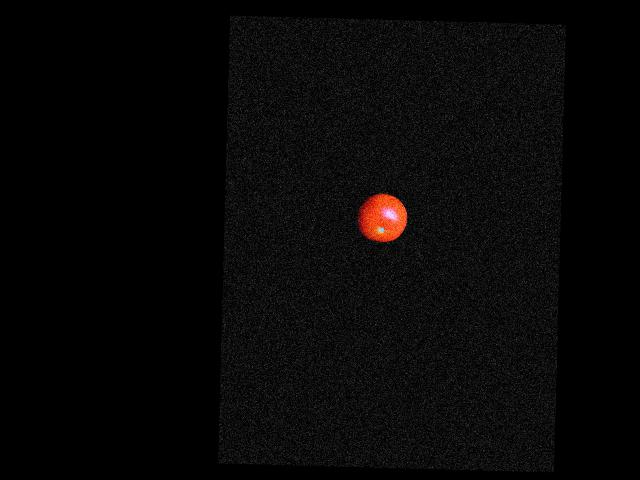tomato: (356, 192, 407, 242)
